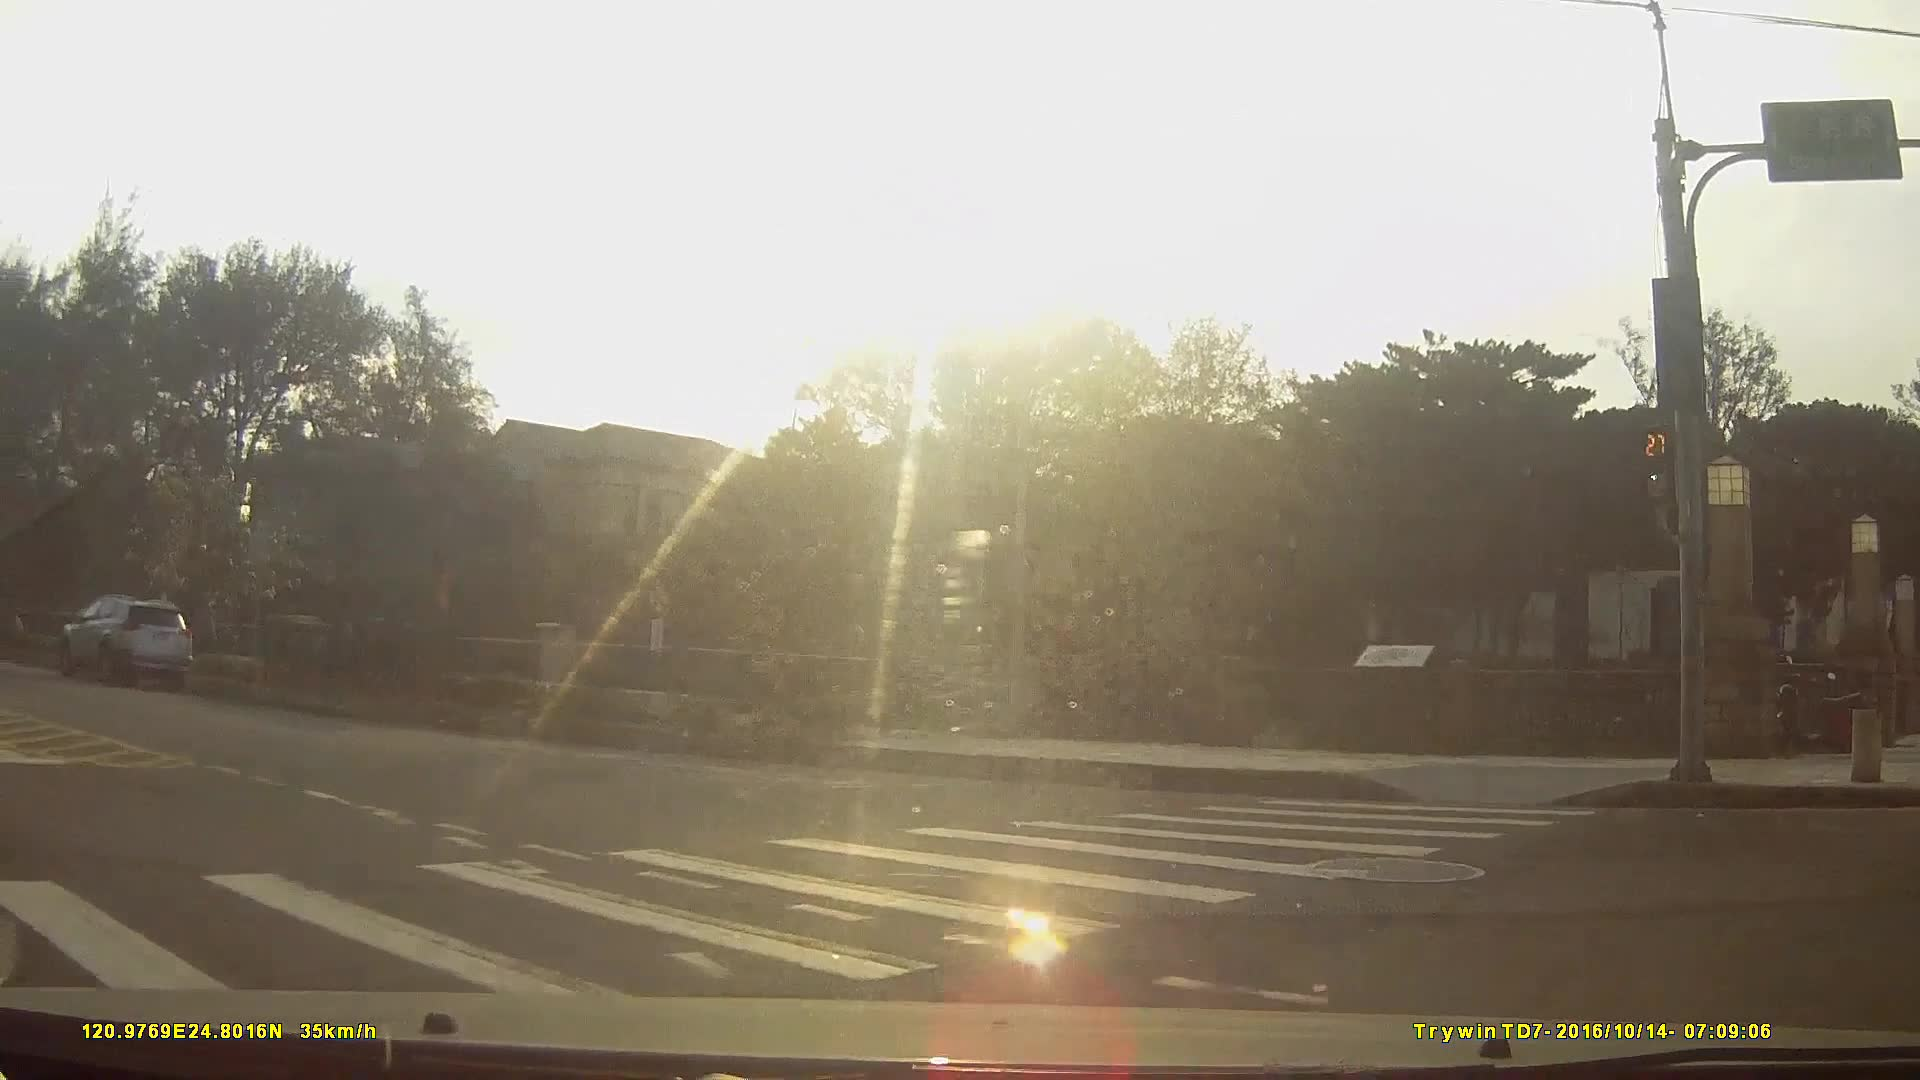vehicle: (55, 593, 193, 688)
